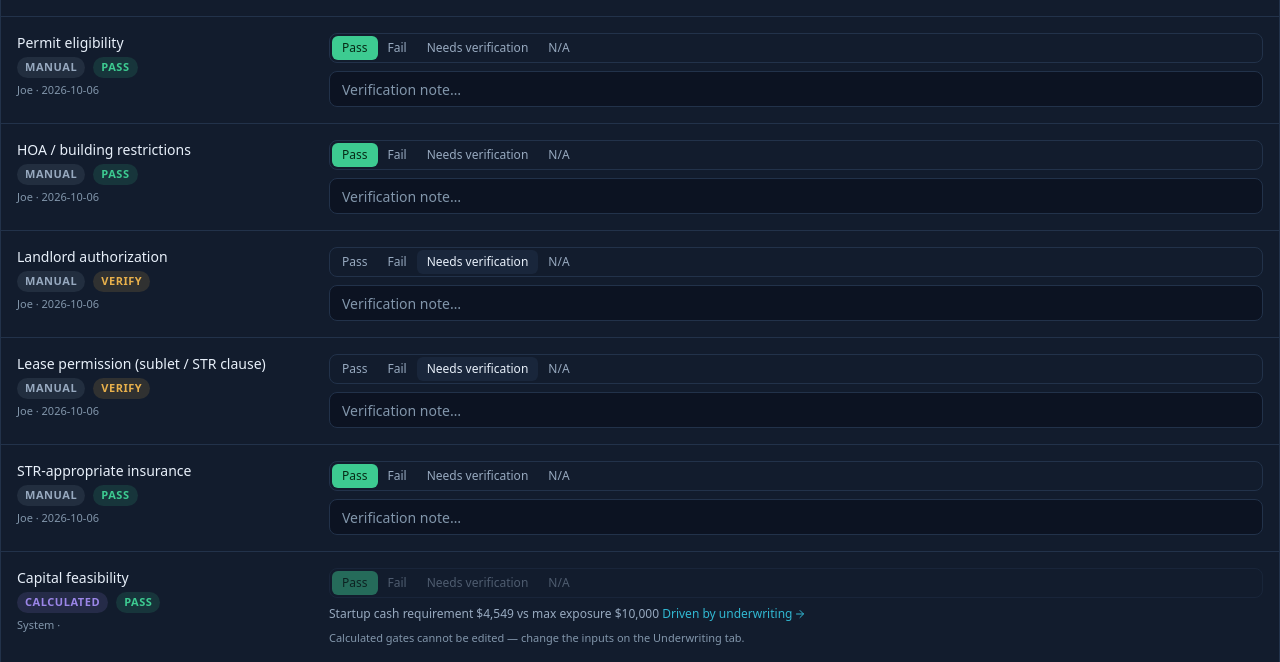
Test: Property Intelligence — compliance › awaiting-consent: clearing both landlord gates qualifies the deal
(page scrolled)
Click the 4th radio button labelled "Pass" at coordinates (355, 262), box [332, 250, 378, 274]
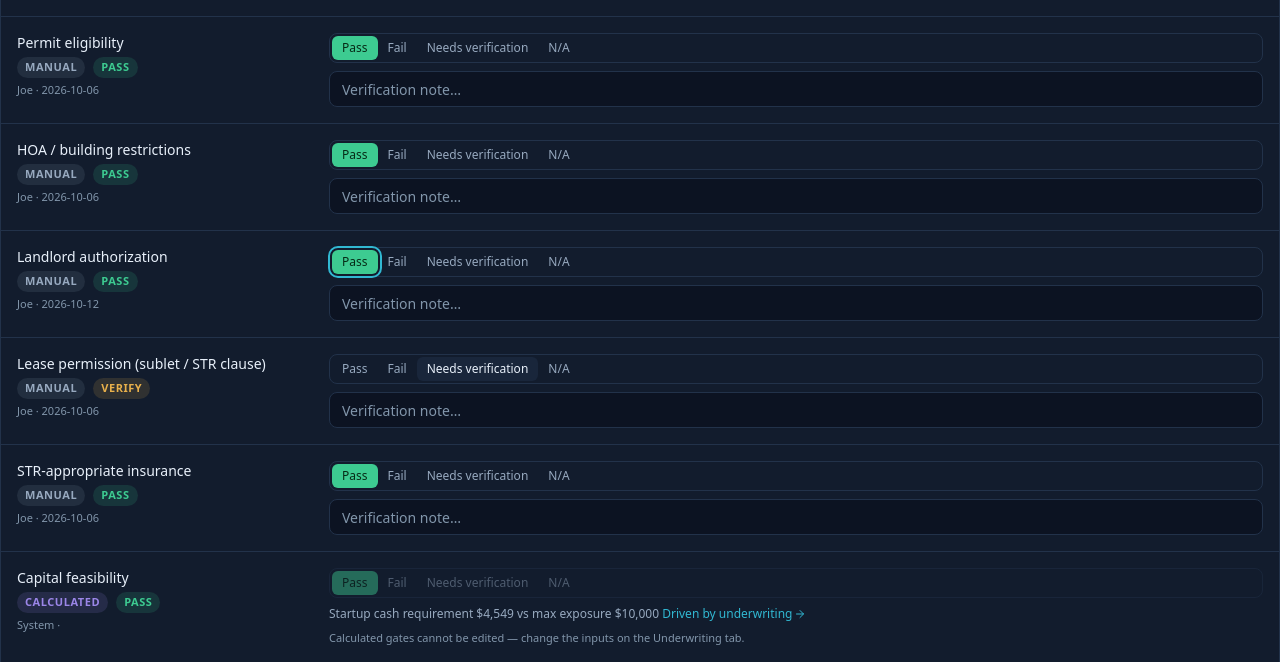
Click the radio button labelled "Pass" next to "Lease permission (sublet / STR clause)" at coordinates (355, 369), box [332, 357, 378, 381]
(page scrolled)
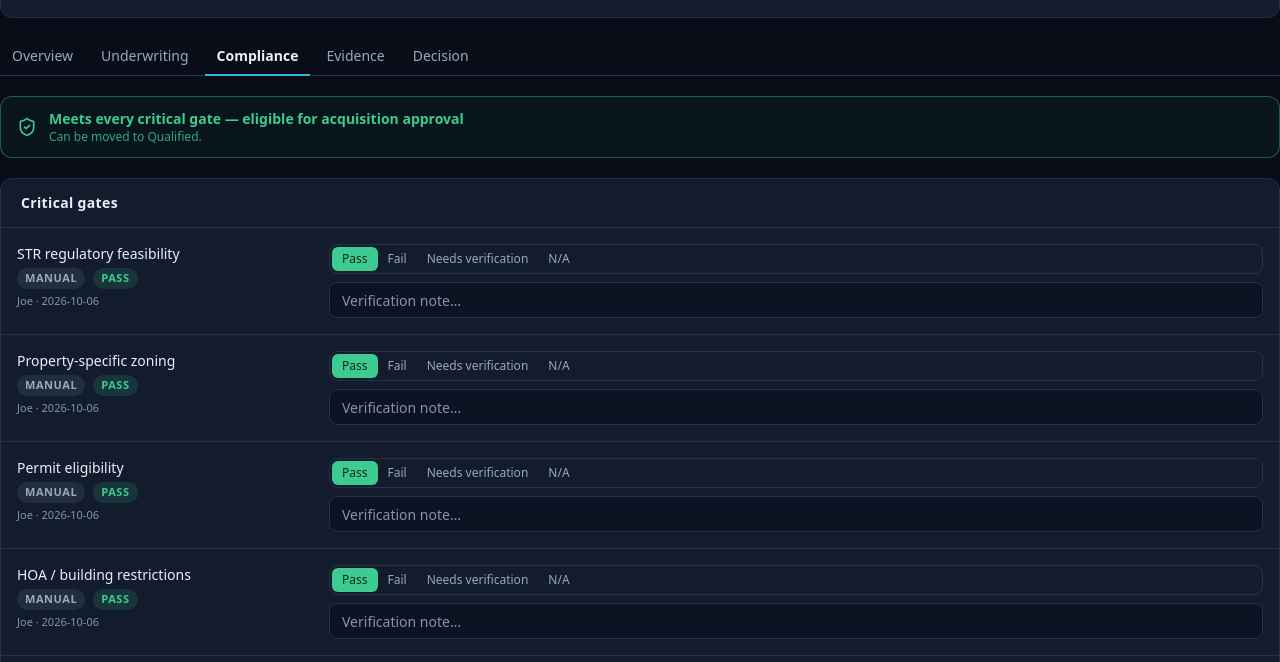
Expected: the text "eligible for acquisition approval" is shown, [49, 109, 464, 128]
Expected: the text "Can be moved to Qualified." is shown, [49, 128, 202, 145]
